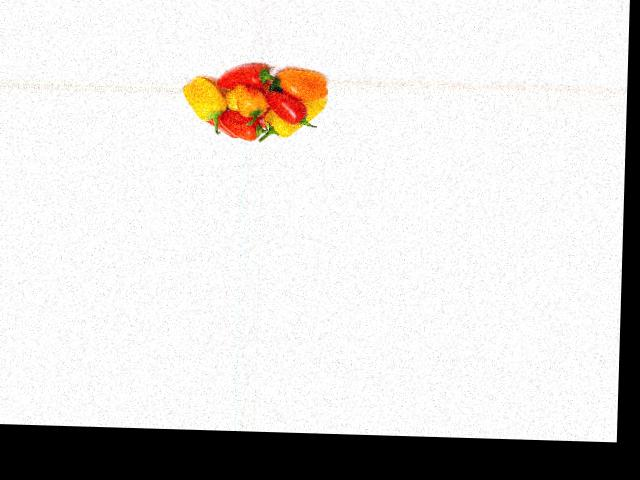bell_pepper: (264, 96, 326, 142)
